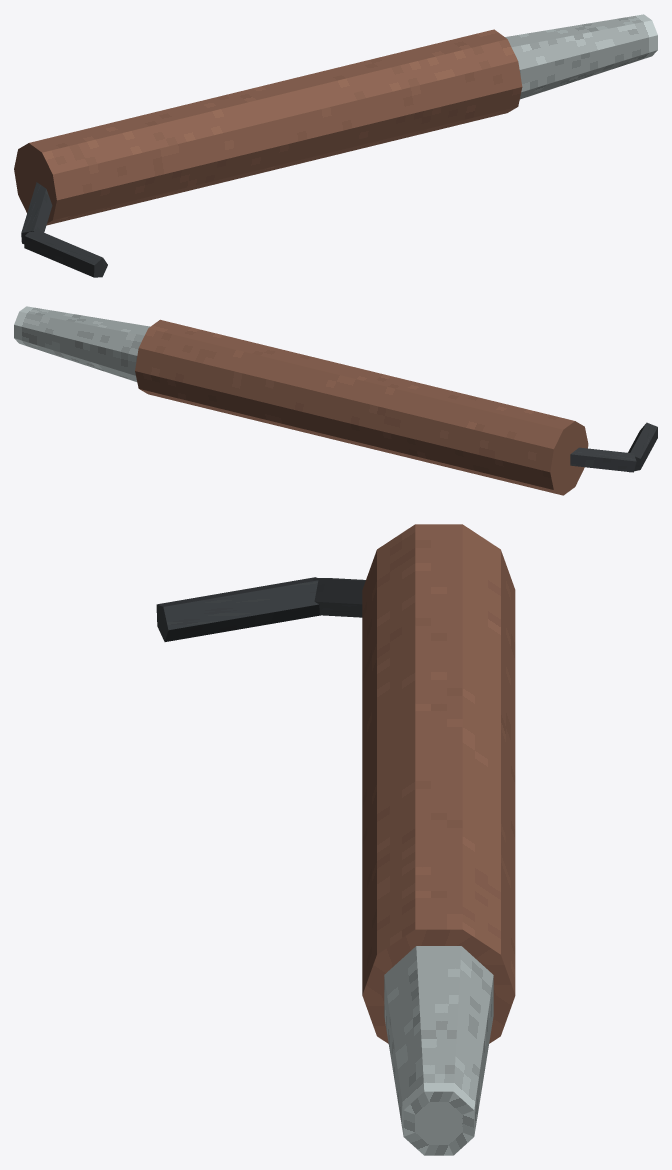
Rendered from soldering_iron.glb.
3 views of the same model, one above another, from view 1: azimuth 30°, elevation 25°; view 2: azimuth 150°, elevation 25°; view 3: azimuth 270°, elevation 25° (orthographic). The views are drawn at different scales.
Visible parts, largest first — view 1: block_main barrel, block_working tip, block_lead 1, block_lead 0; view 2: block_main barrel, block_working tip, block_lead 0, block_lead 1; view 3: block_main barrel, block_working tip, block_lead 1, block_lead 0.
Part boxes in pixels (<box>): block_main barrel: <box>14,29,522,225</box>; block_working tip: <box>505,14,657,99</box>; block_lead 1: <box>24,229,107,277</box>; block_lead 0: <box>21,182,52,243</box>; block_main barrel: <box>135,319,588,495</box>; block_working tip: <box>14,306,149,381</box>; block_lead 0: <box>570,447,636,472</box>; block_lead 1: <box>628,422,657,472</box>; block_main barrel: <box>362,524,515,1043</box>; block_working tip: <box>384,946,493,1155</box>; block_lead 1: <box>156,577,320,641</box>; block_lead 0: <box>313,578,365,617</box>.
Bounding box in the file's own units: 0.22 × 0.0236 × 0.0582.
Materials: 1 (1 with a texture image).
